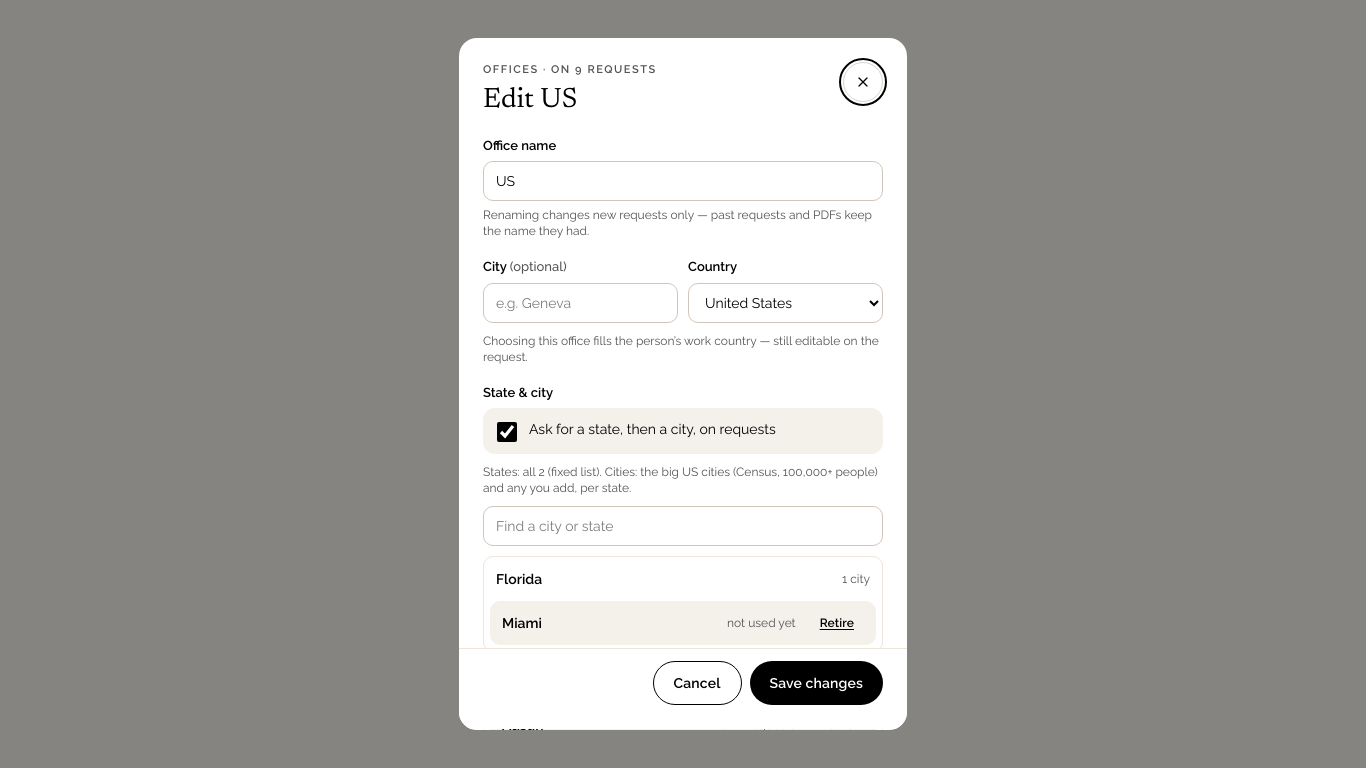
Test case: OfficeSheet › Find a city narrows the states and cities
Type "dal" into the search field labelled "Find a city".
click(683, 526); type("dal")  # box [483, 506, 883, 546]
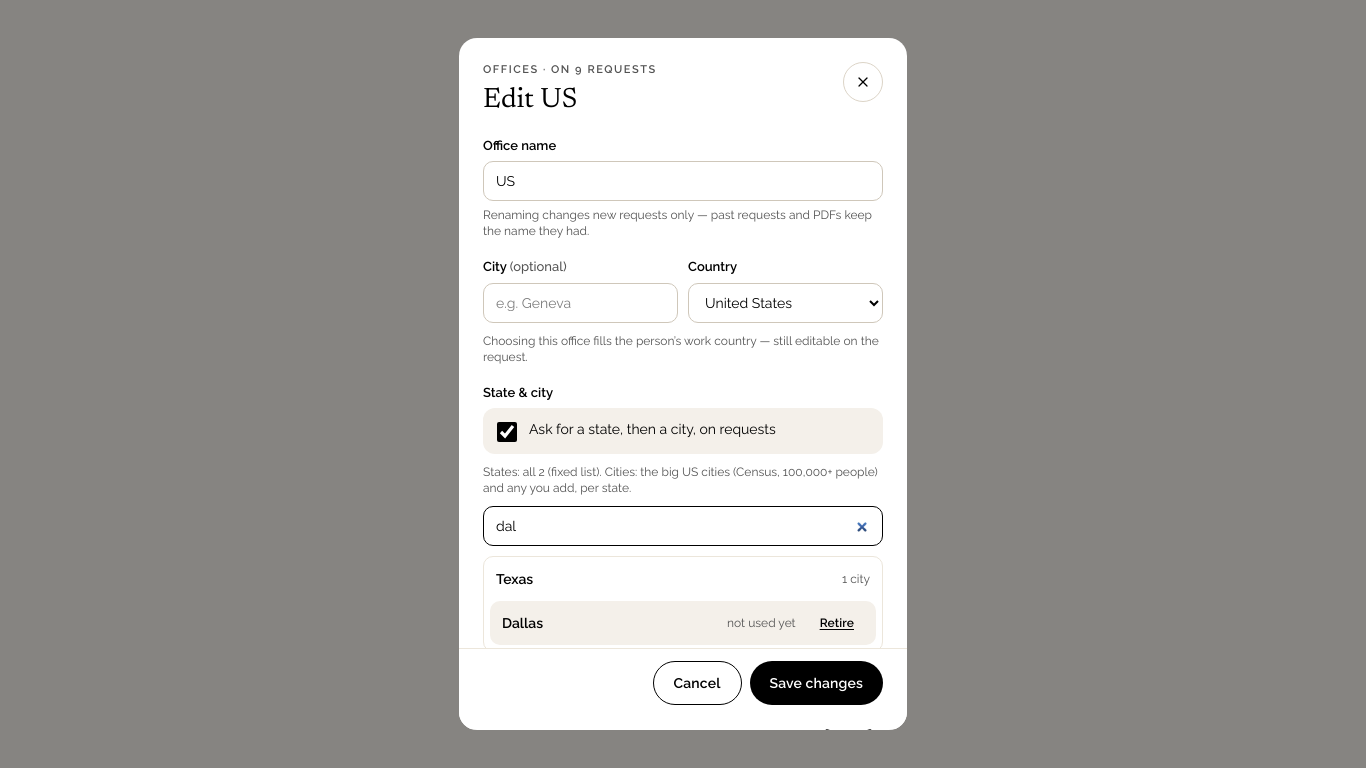
Check: the list named "Cities by state" shows "Dallas", box [502, 615, 543, 631]
Check: the list named "Cities by state" no longer shows "Austin", box [483, 556, 883, 652]
Check: the list named "Cities by state" no longer shows "Florida", box [483, 556, 883, 652]
